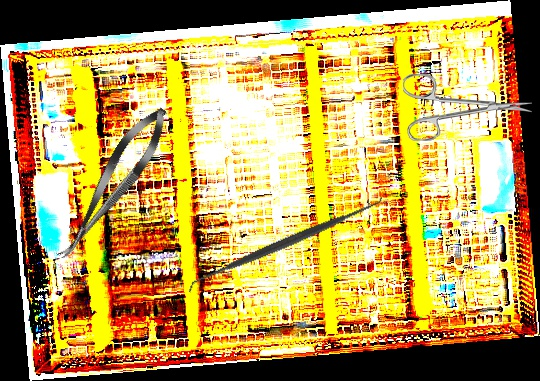Iris Scissors: (402, 73, 533, 144)
Micro Scissor: (47, 99, 179, 269)
Spatula Surgical: (182, 191, 388, 296)
